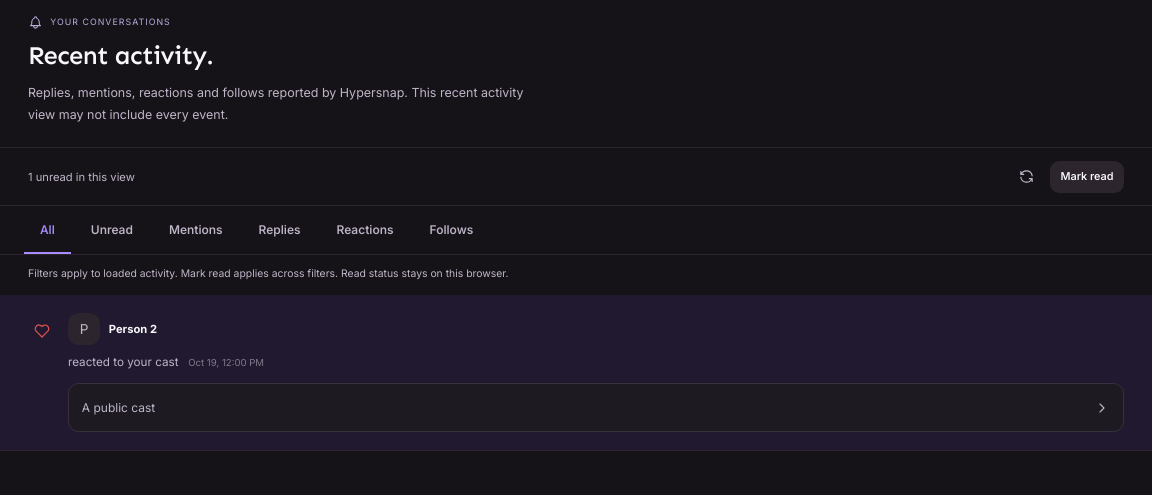
Test: isolated feature panels › keeps read activity usable when browser storage is unavailable
The width and height of the screenshot is (1152, 495).
Click the button "Mark read" at (1087, 176), box [1050,160,1124,192]
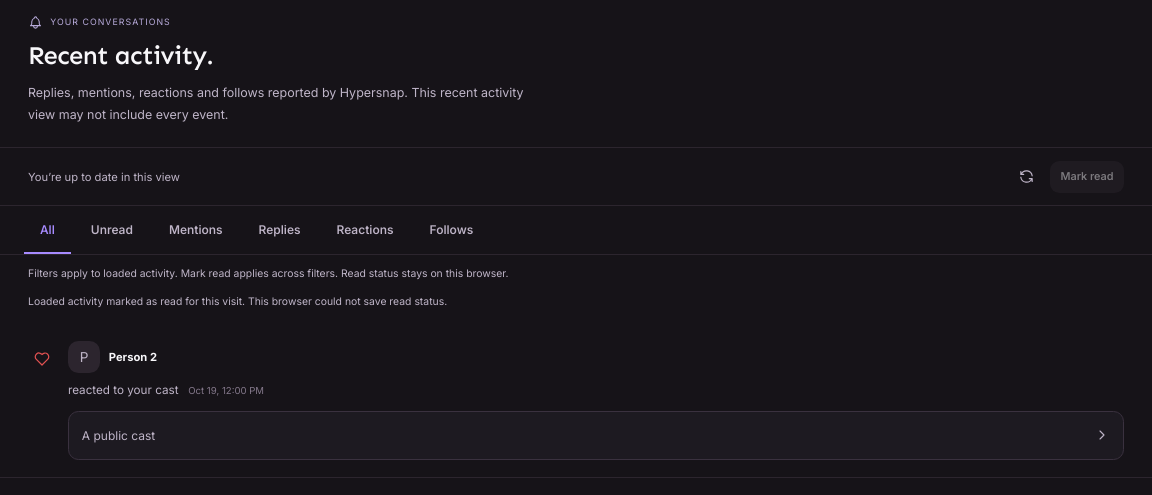
Now the text "for this visit" is shown, box [28,295,447,308]
Now the text "could not save read status" is shown, box [28,295,447,308]
